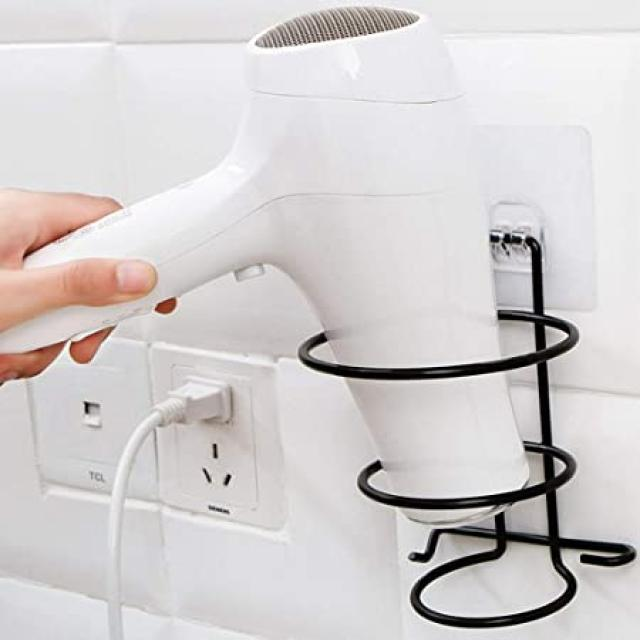dryer: (6, 2, 547, 556)
